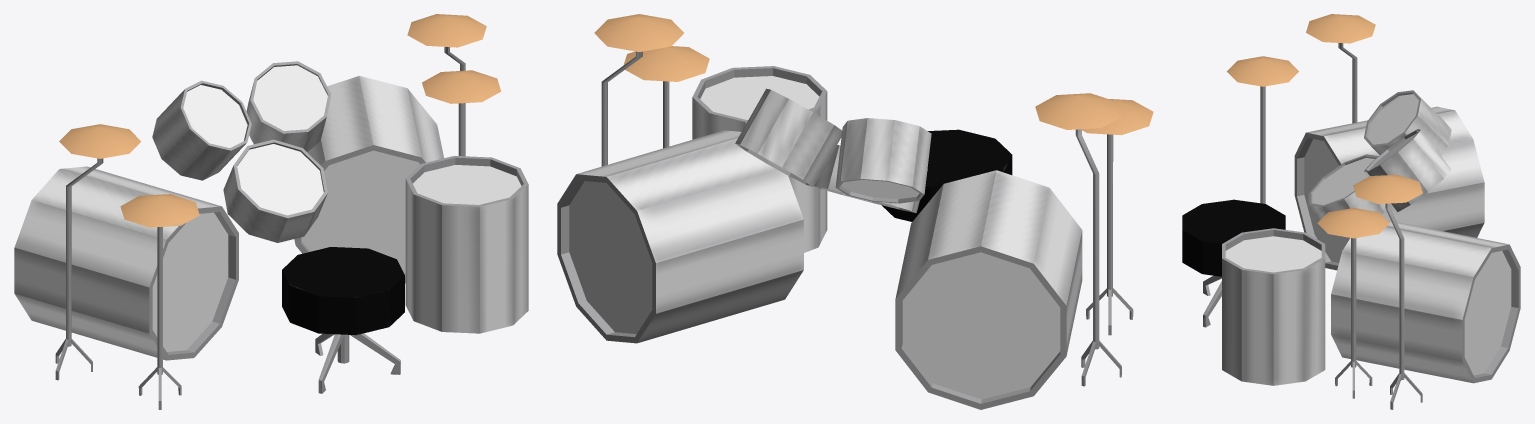
The model's file is DrumSetFBX.fbx.
The picture shows the model from 3 angles, left to right: view 1: azimuth 30°, elevation 25°; view 2: azimuth 150°, elevation 25°; view 3: azimuth 270°, elevation 25°; orthographic projection. The views are drawn at different scales.
Visible parts, largest first — view 1: pCylinder14; view 2: pCylinder14; view 3: pCylinder14.
Part boxes in pixels (bbox=[...]): pCylinder14: bbox=[14, 14, 528, 409]; pCylinder14: bbox=[557, 14, 1153, 409]; pCylinder14: bbox=[1182, 14, 1520, 409].
Size of the model in its own units: 12.84 by 6.54 by 9.34.
